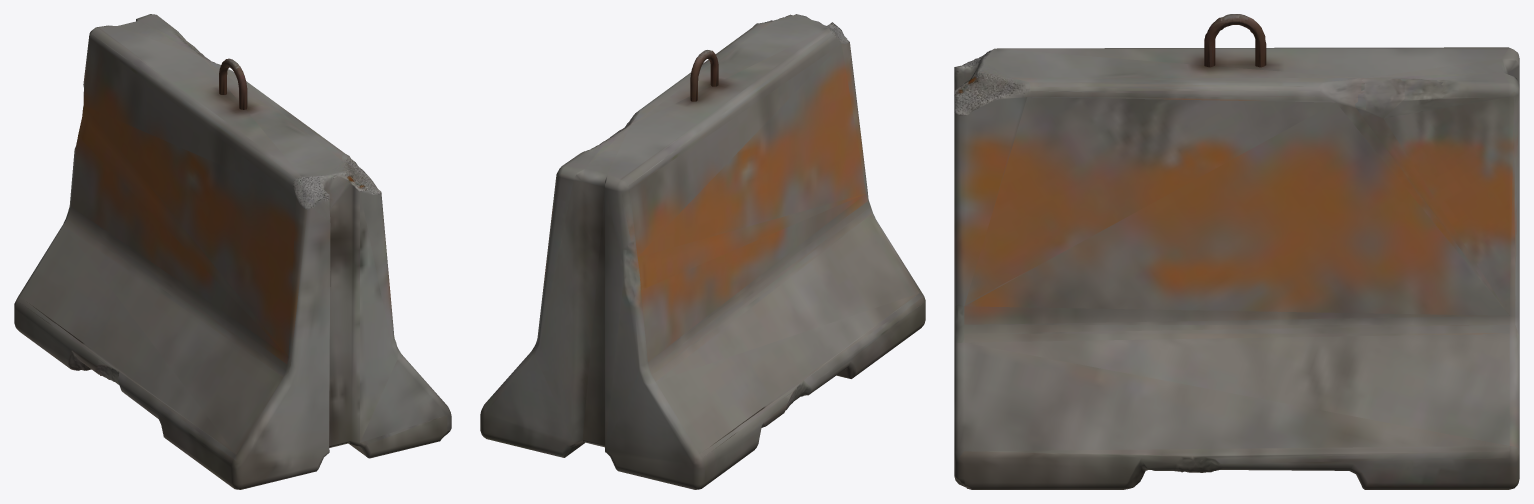
Rendered from prop-barrier.glb.
3 views of the same model, side by side, from view 1: azimuth 30°, elevation 25°; view 2: azimuth 150°, elevation 25°; view 3: azimuth 270°, elevation 25° (orthographic). The views are drawn at different scales.
Visible parts, largest first — view 1: Concrete barrier; view 2: Concrete barrier; view 3: Concrete barrier.
Part boxes in pixels (box(x1,y1,x2,y2)): Concrete barrier: box(14, 14, 451, 489); Concrete barrier: box(480, 14, 925, 489); Concrete barrier: box(954, 14, 1519, 489).
Bounding box in the file's own units: 0.5645 × 0.7988 × 0.998.
Materials: 1 (1 with a texture image).
